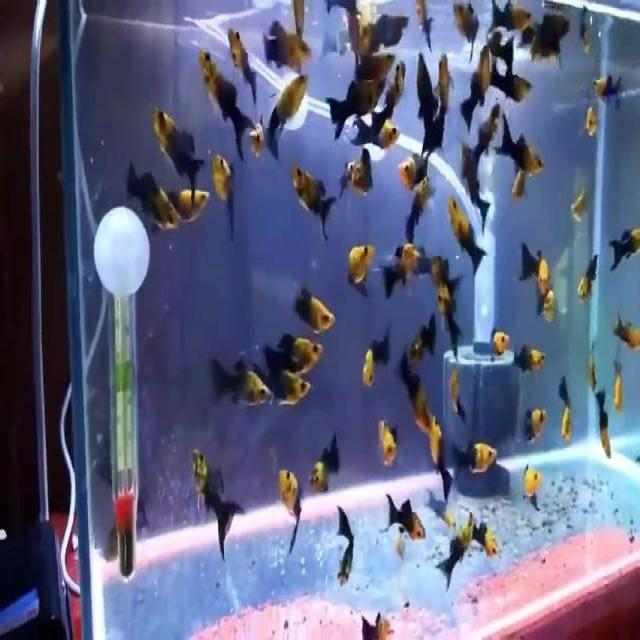PlatyFish: (192, 38, 260, 178), (183, 436, 247, 580), (145, 100, 208, 211), (202, 346, 280, 423), (258, 63, 312, 173), (280, 149, 337, 244), (486, 102, 550, 182), (272, 458, 310, 566), (257, 326, 327, 383), (446, 420, 506, 481), (341, 229, 383, 311)
